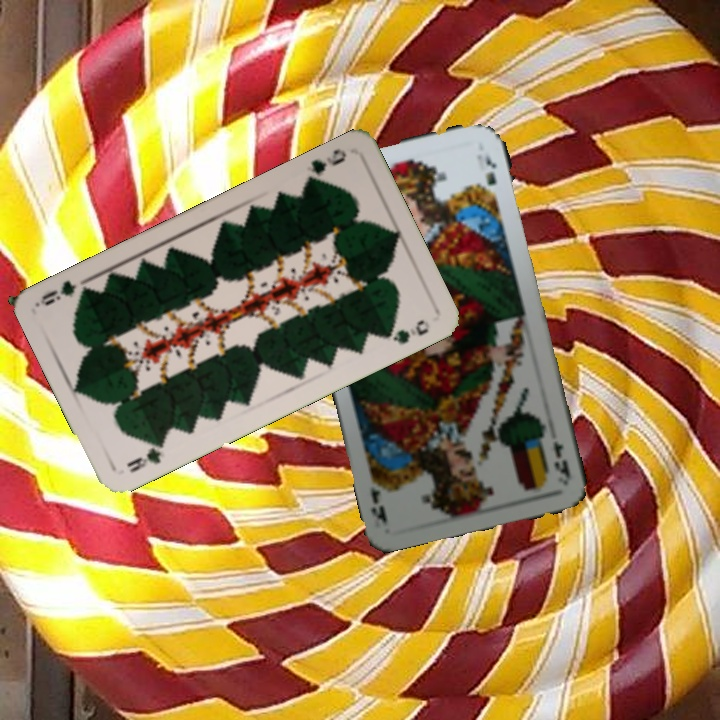EK: (549, 437, 573, 484)
G9: (301, 144, 349, 188), (122, 435, 169, 476)
